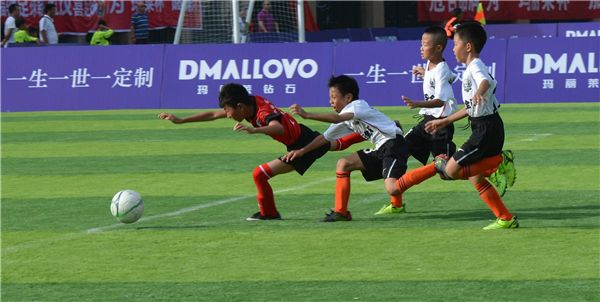football: (110, 189, 145, 224)
